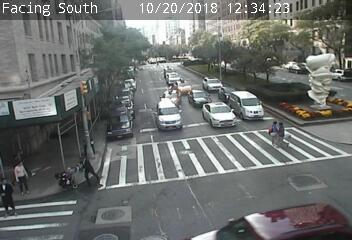car: (228, 93, 265, 119), (201, 102, 238, 127), (156, 103, 181, 131), (188, 90, 213, 105), (202, 77, 222, 90), (163, 90, 181, 104), (218, 86, 235, 100), (173, 81, 192, 93), (166, 73, 182, 84)
